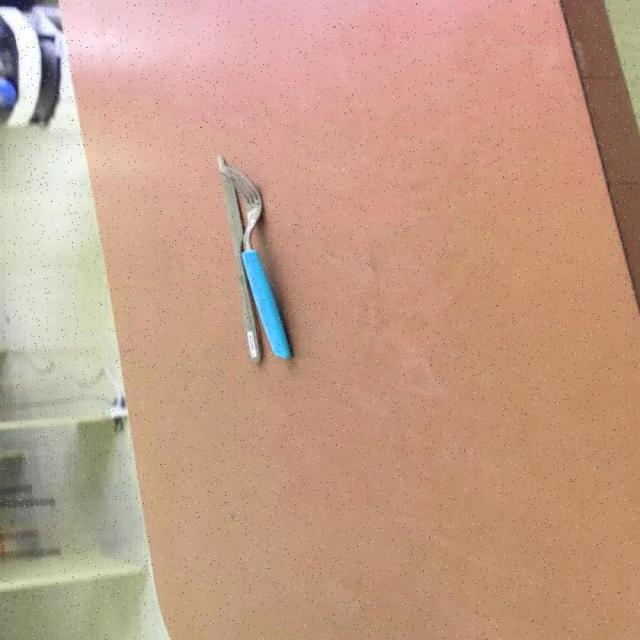Fork: (218, 155, 295, 362)
Knife: (218, 154, 296, 363)
